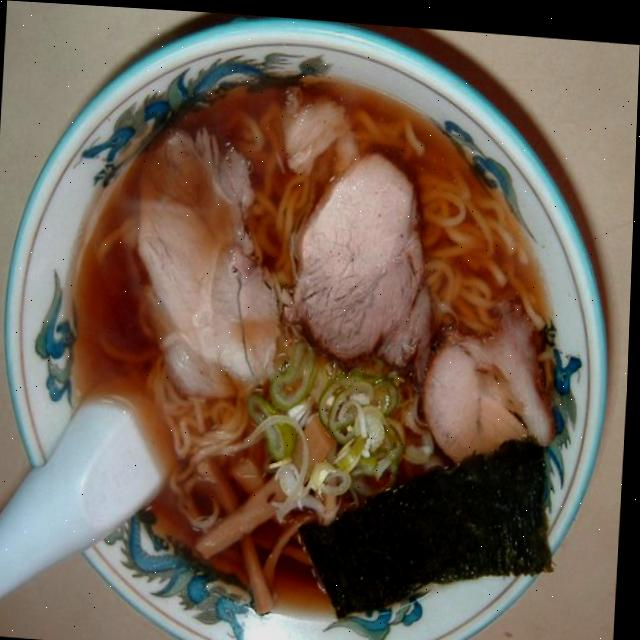面条主食: (0, 0, 637, 640)
